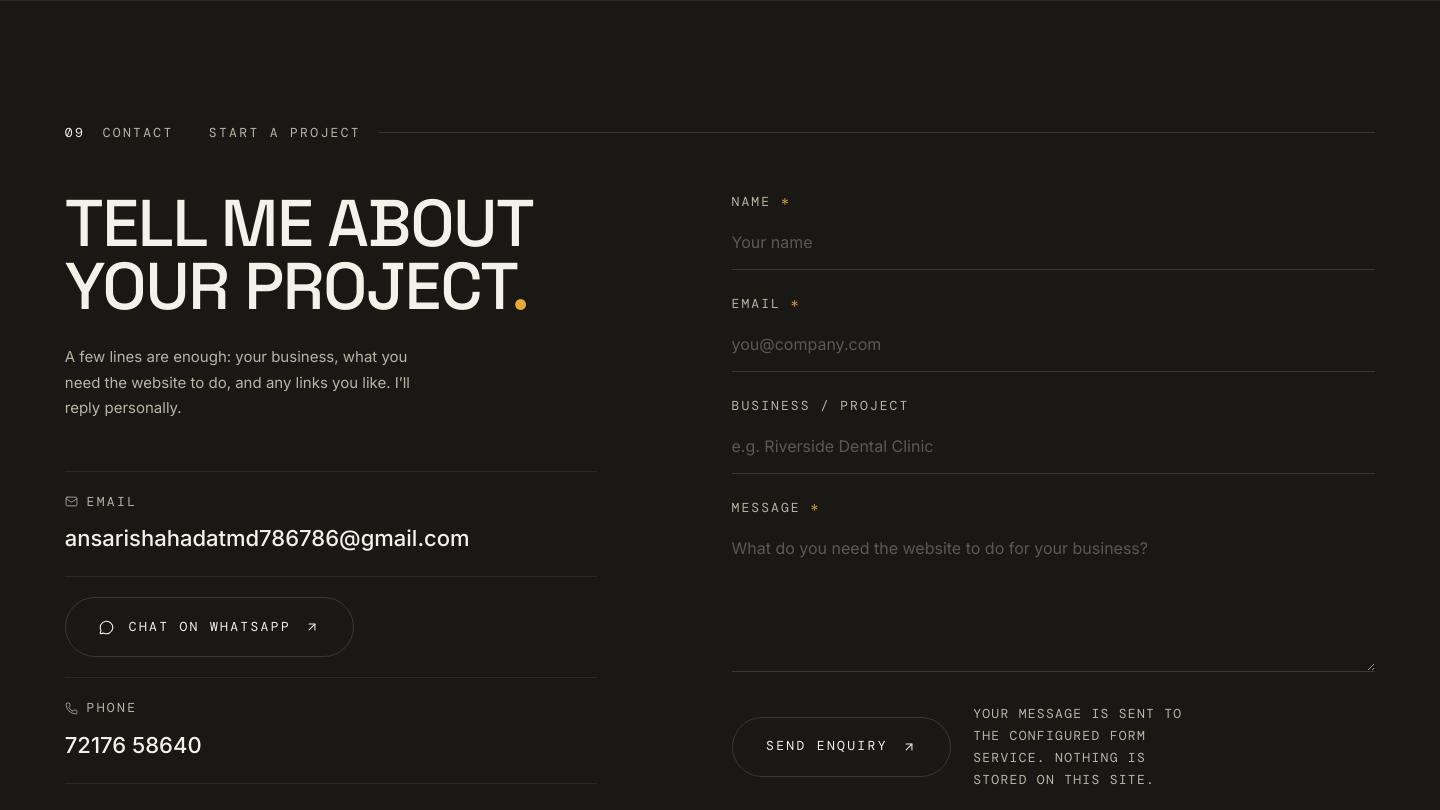
Test: Contact form › reports form-service failures
In the field labelled "Name *": (1053, 247) 732,224 -> 1375,270, type "A. Person"
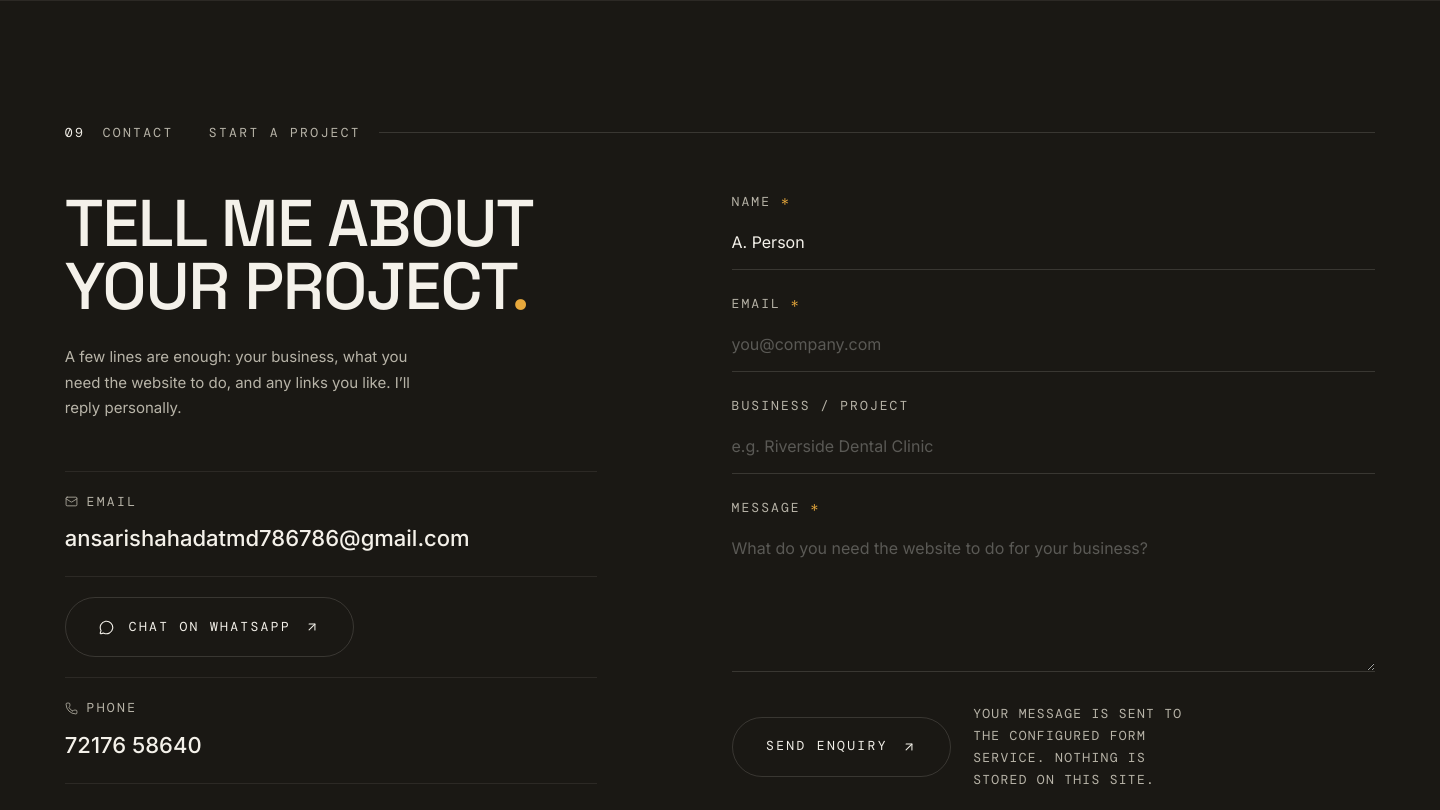
In the field labelled "Email *": (1053, 349) 732,326 -> 1375,372, type "person@example.com"
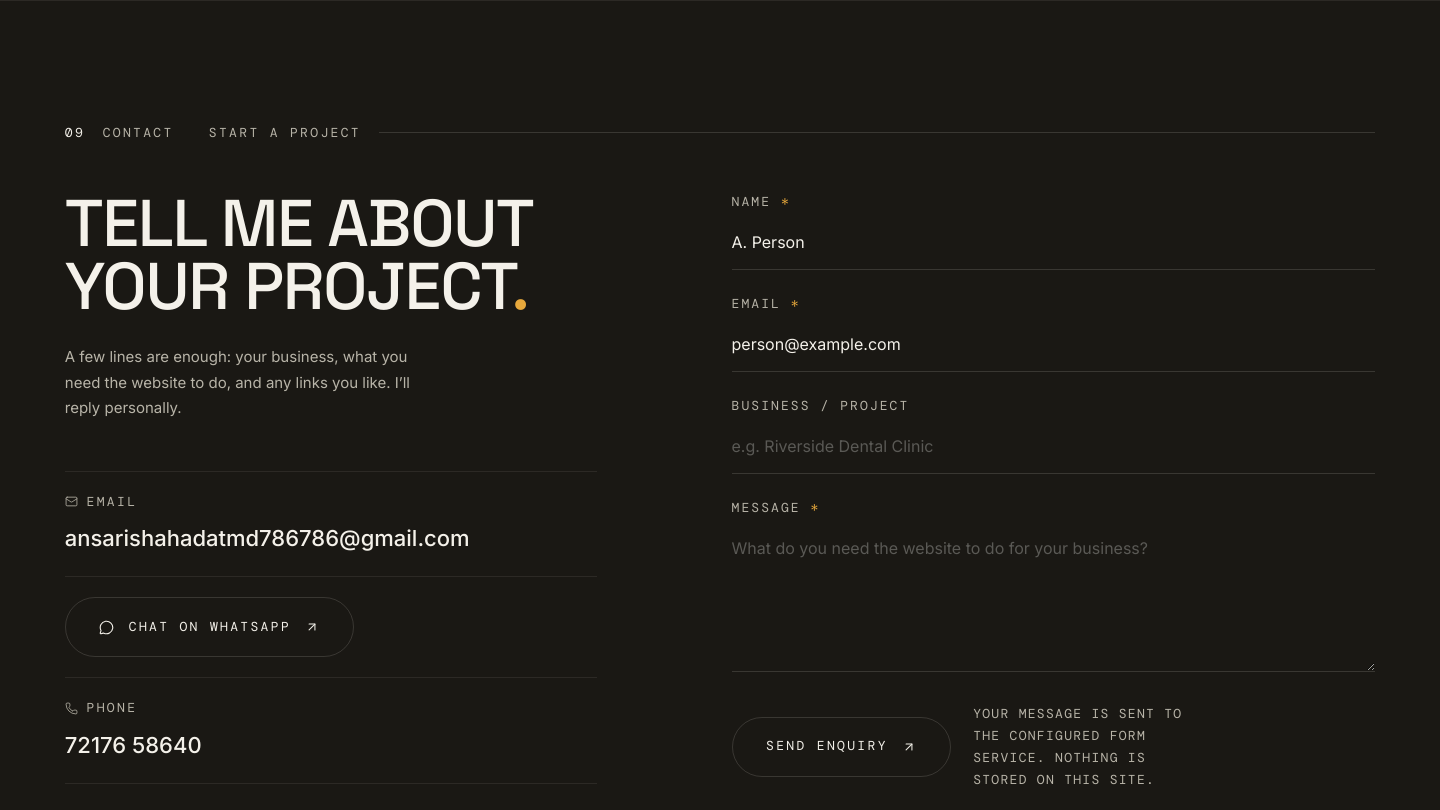
In the field labelled "Business / Project": (1053, 451) 732,428 -> 1375,474, type "Portfolio project"
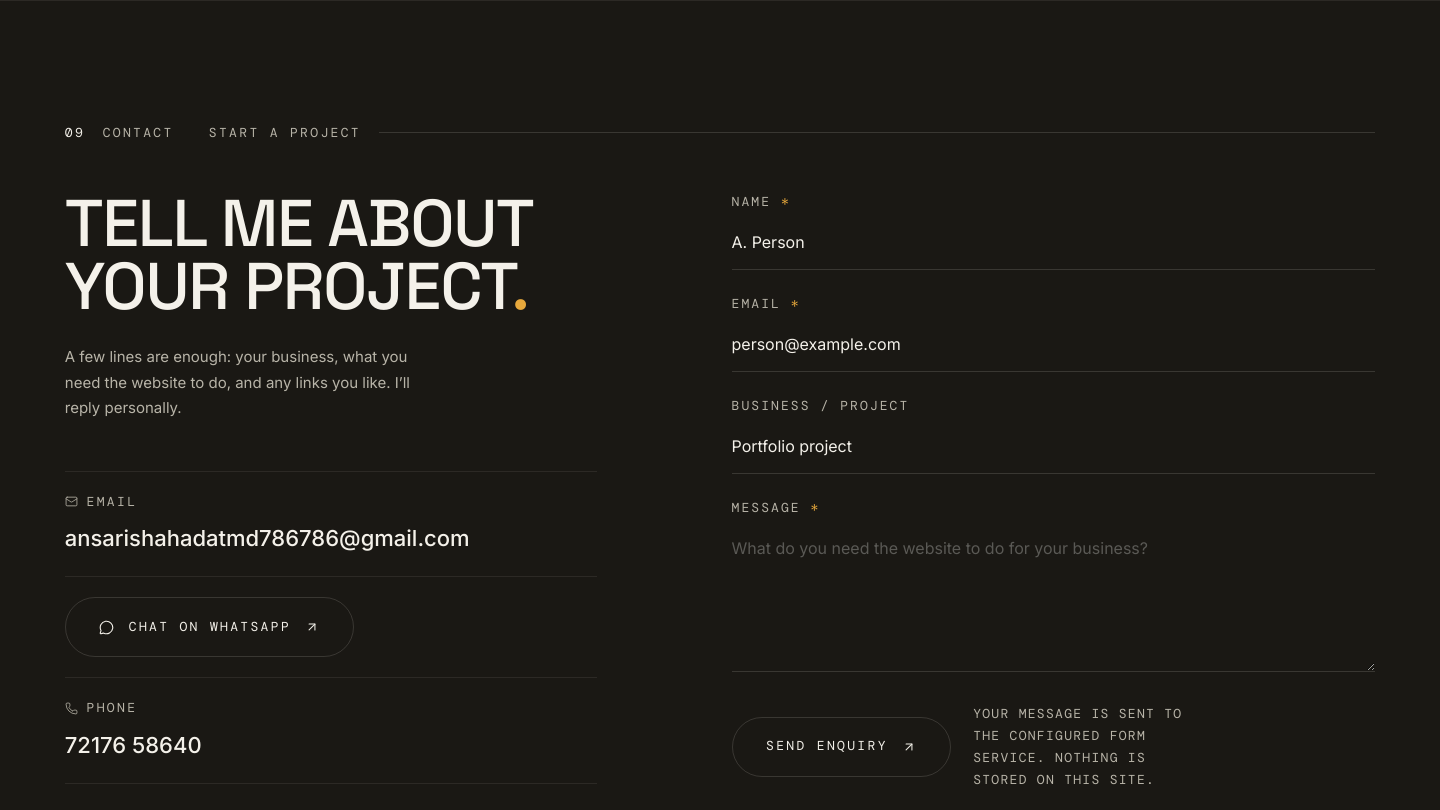
In the text box labelled "Message *": (1053, 601) 732,530 -> 1375,672, type "I need a business website."
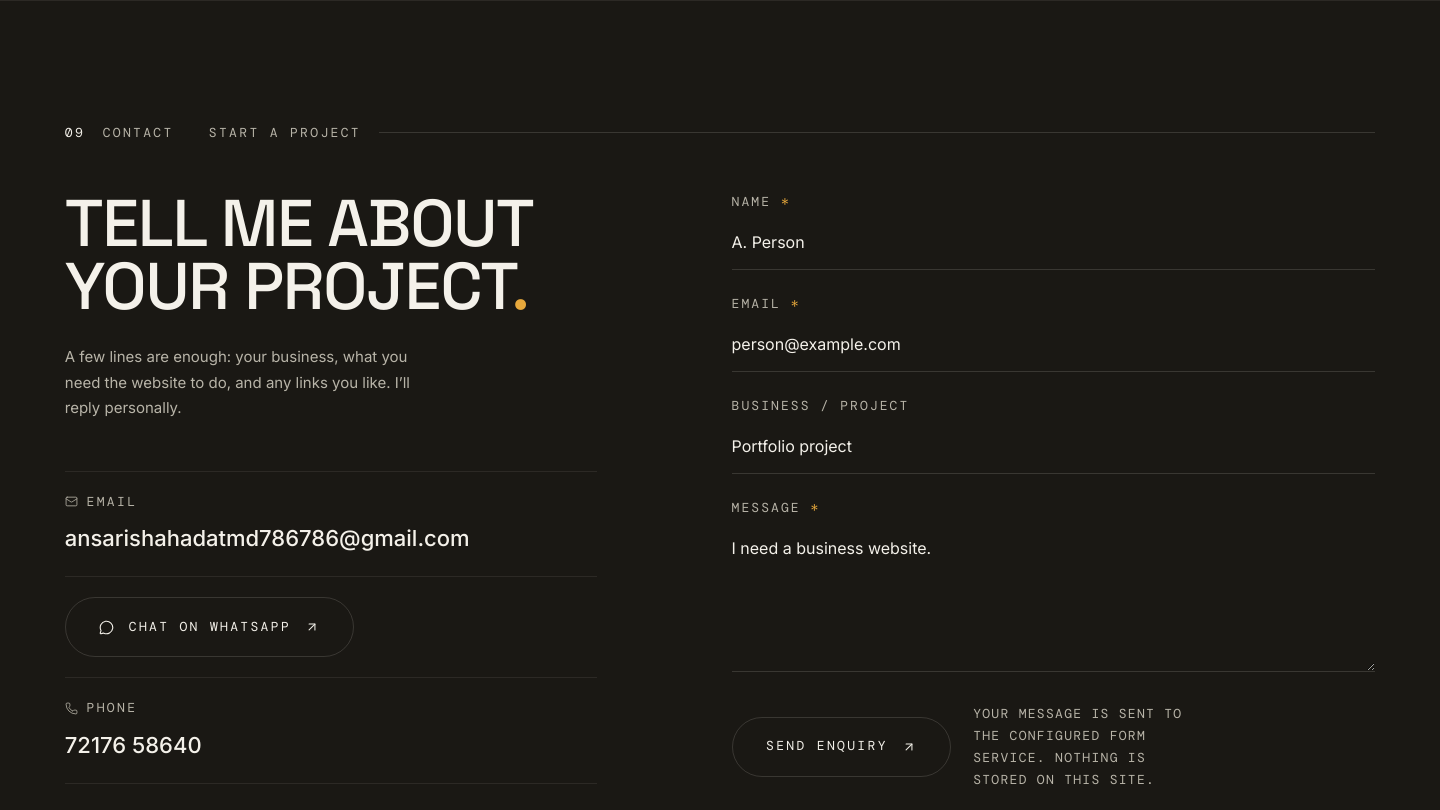
Submit the form named "Project enquiry form", box 732,192 -> 1375,791
(page scrolled)
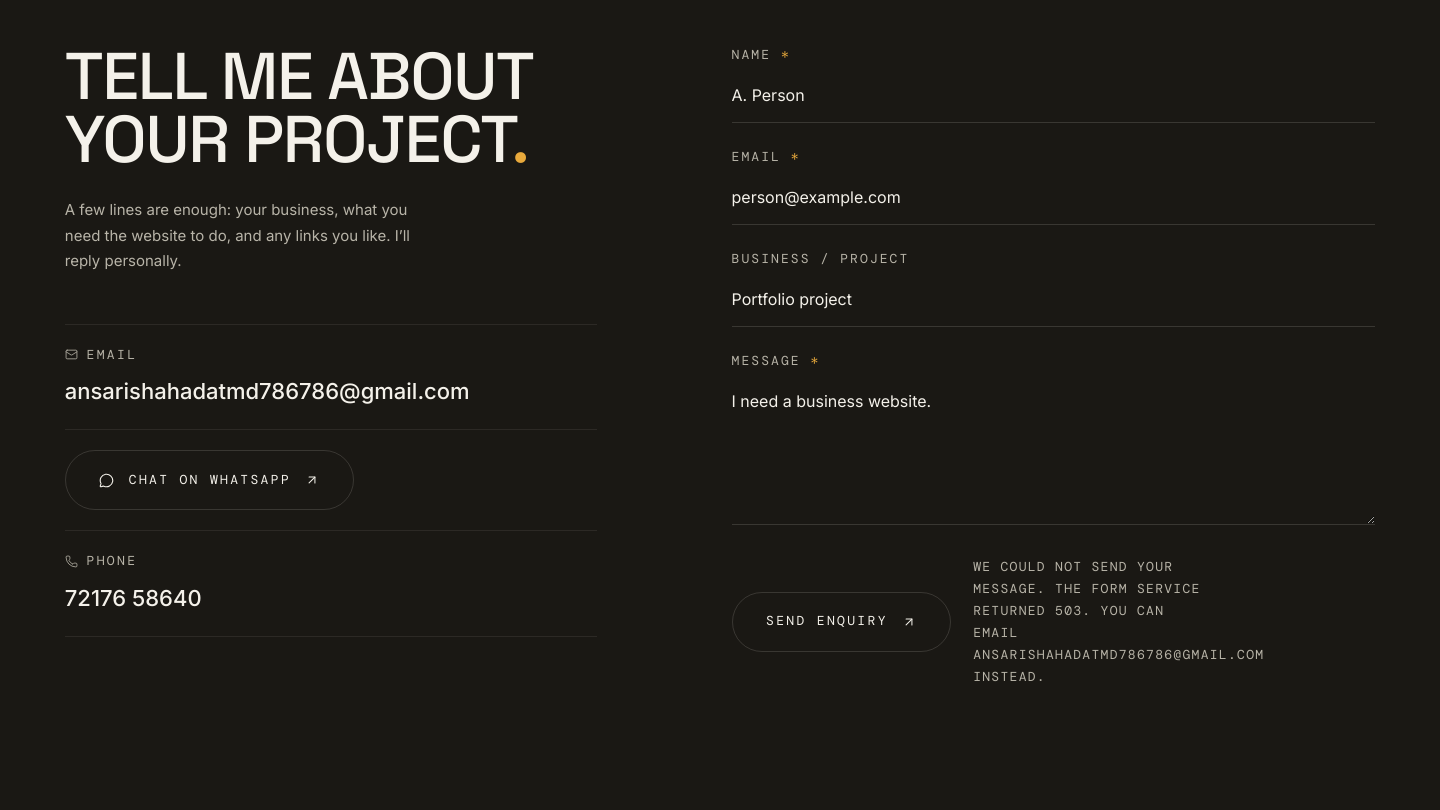
Now the message shows "We could not send your message.", box 973,558 -> 1264,685
